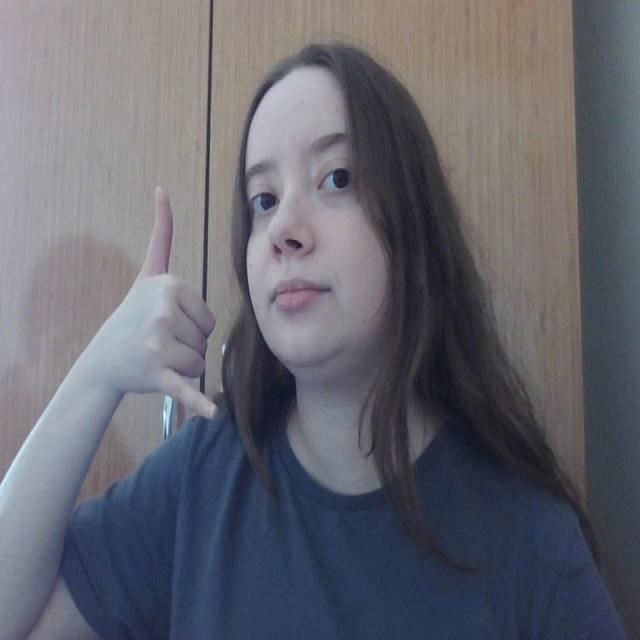Telefon: (113, 184, 245, 434)
